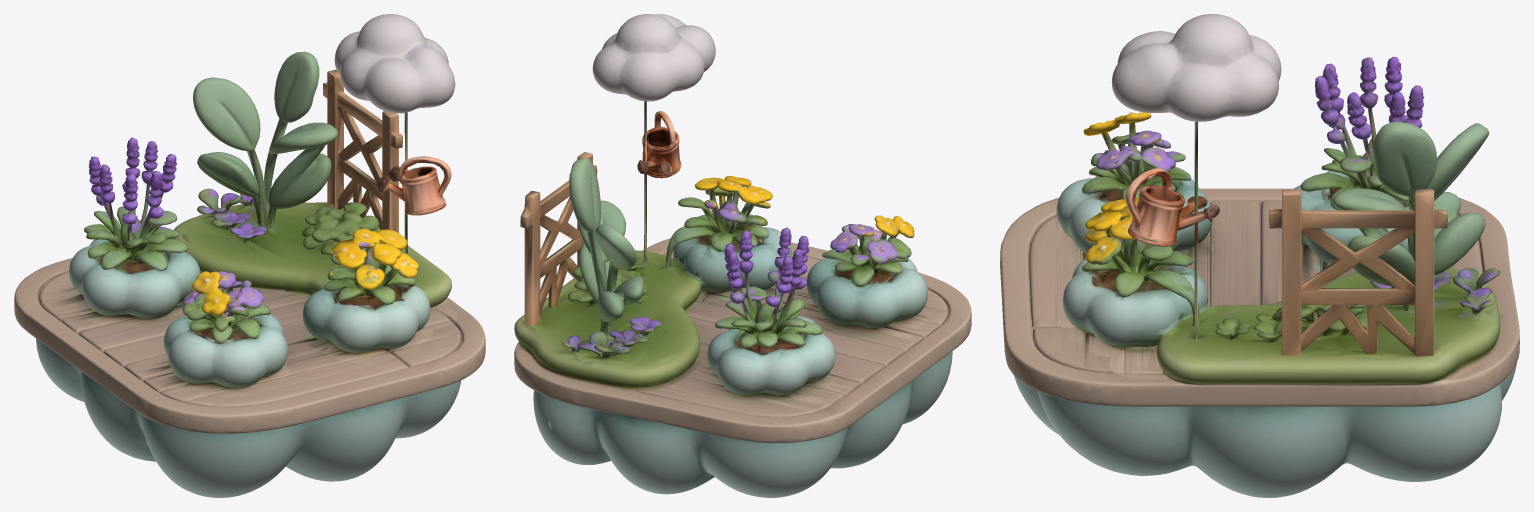
File: sky-garden-1.glb
The picture shows the model from 3 angles, left to right: view 1: azimuth 30°, elevation 25°; view 2: azimuth 150°, elevation 25°; view 3: azimuth 270°, elevation 25°; orthographic projection. The views are drawn at different scales.
Parts seen in each view (by area): view 1: node_0; view 2: node_0; view 3: node_0.
Boxes of the visible parts, x1=… form: node_0: x1=14, y1=14, x2=485, y2=497; node_0: x1=514, y1=14, x2=971, y2=497; node_0: x1=1000, y1=14, x2=1519, y2=497.
Size of the model in its own units: 0.8306 by 0.9522 by 0.907.
1 material, 1 textured.
